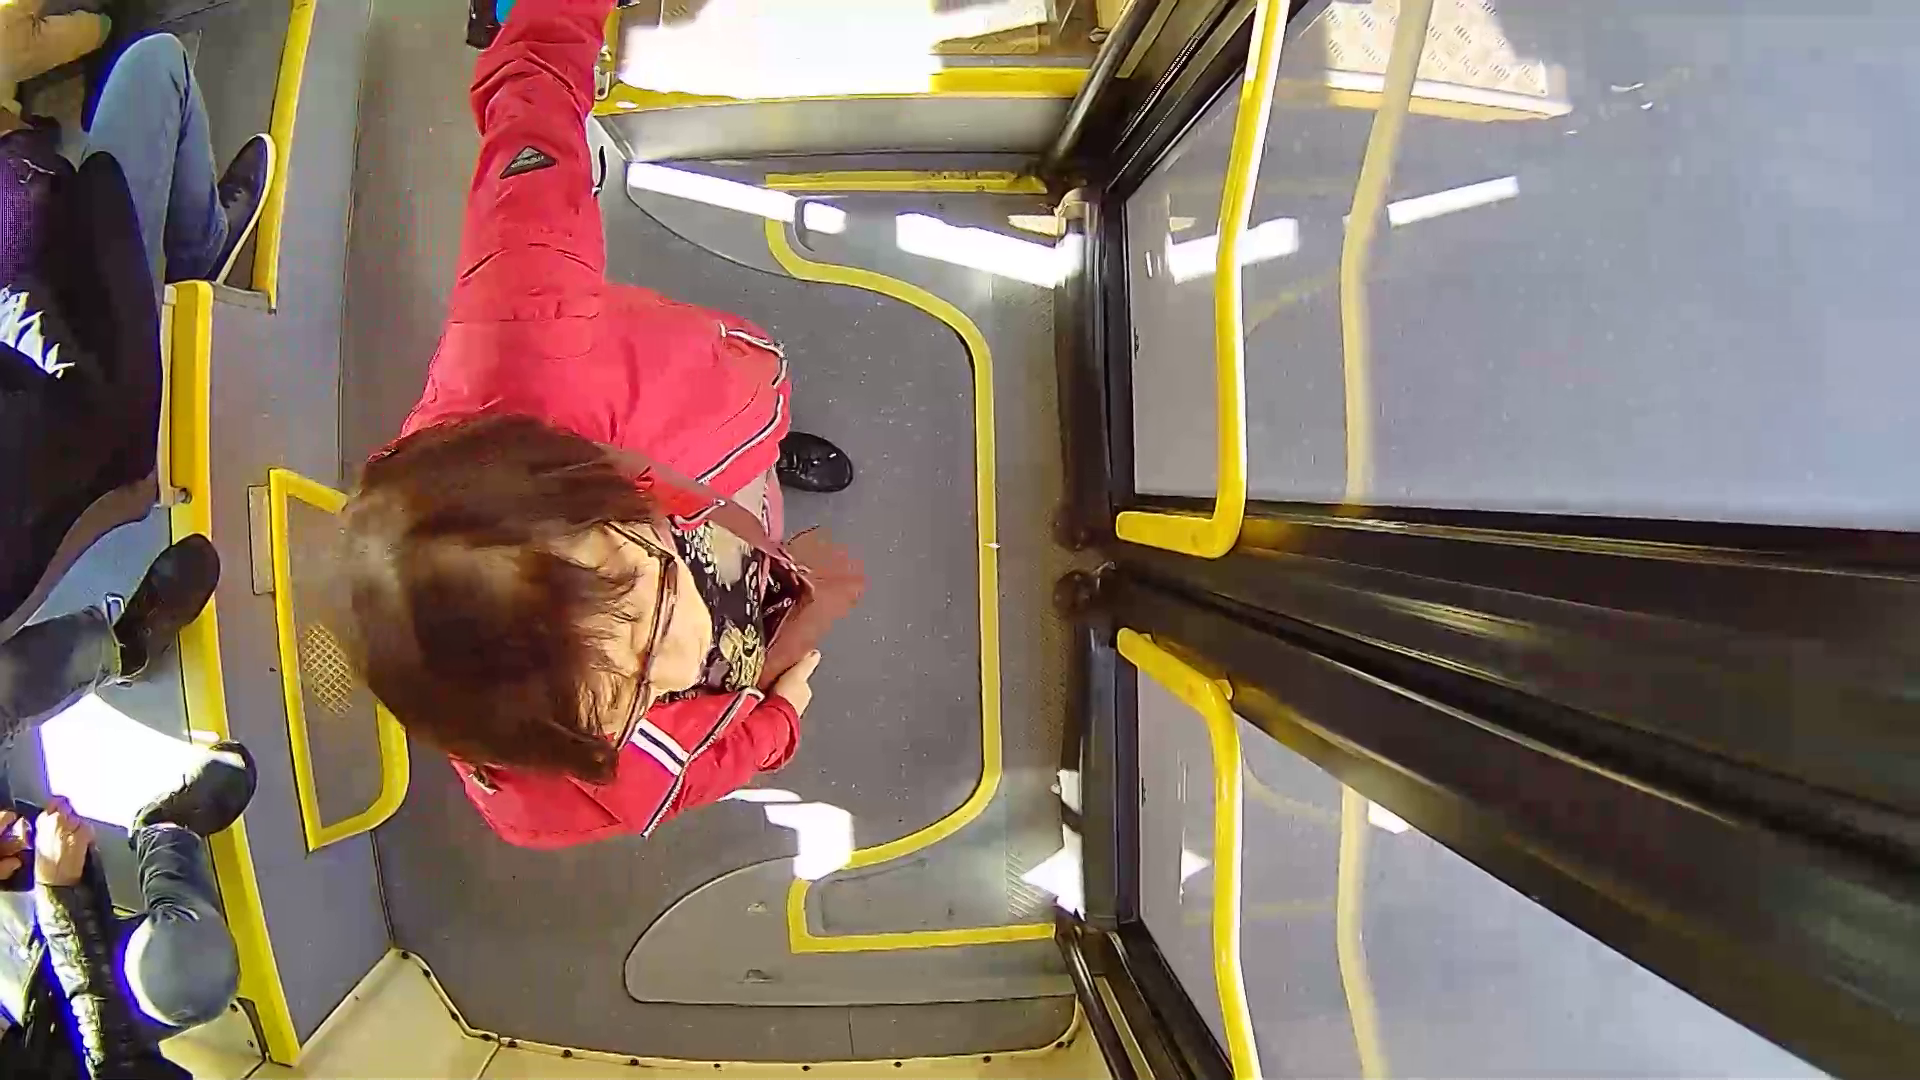person: (261, 14, 977, 904)
